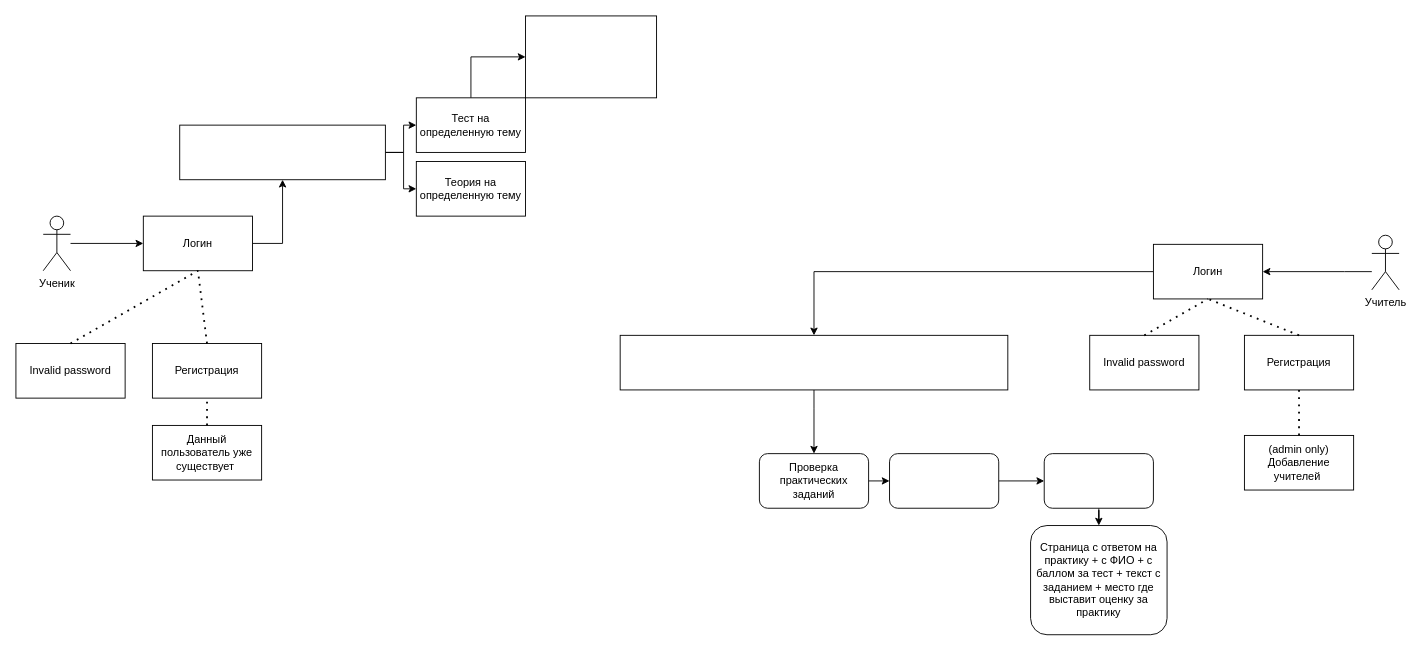
This 1421x651 diagram has some shape labels left out. Each missing label, with the centre of its shape:
"Главная Добавление групп. Выбор существующих групп" goes at pixel 813 362.
"Главная. все темы, которые были добавленны" goes at pixel 282 152.
"Практическое задание на заданную тему" goes at pixel 591 56.
"Список тем, которые существует + которые сделал ученик" goes at pixel 1098 480.
"Список фамилий учеников" goes at pixel 944 480.
